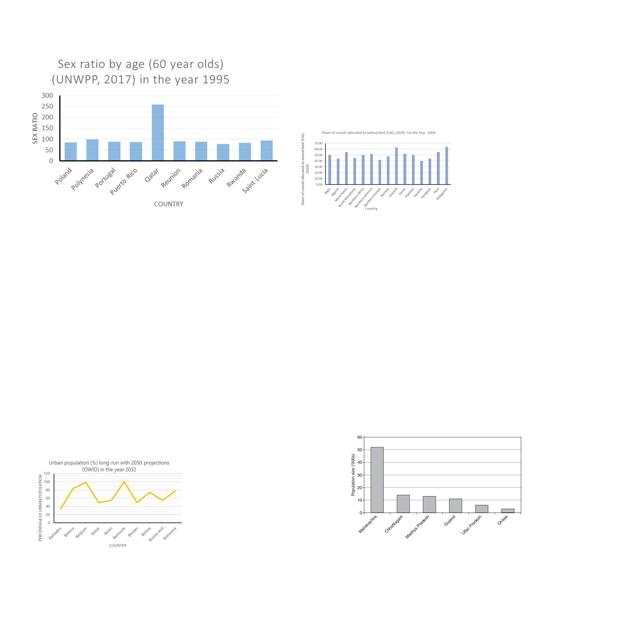Graph: (24, 53, 284, 215), (345, 430, 528, 541), (299, 126, 457, 214), (37, 458, 184, 548)
